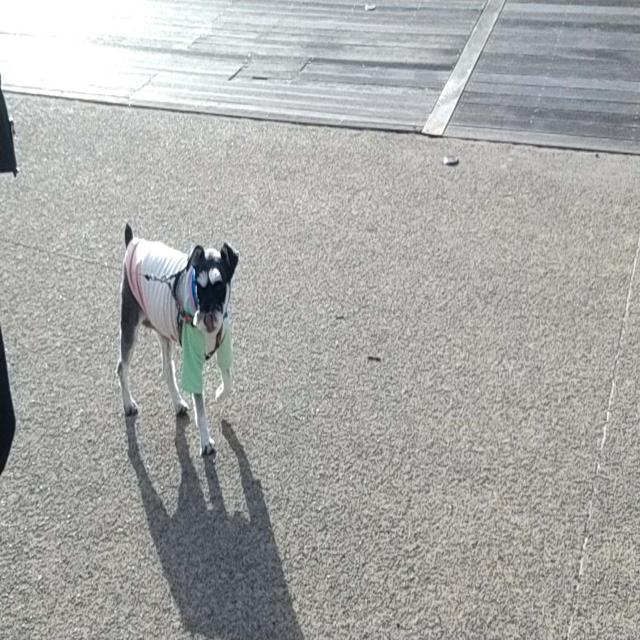Dog: (115, 223, 239, 458)
